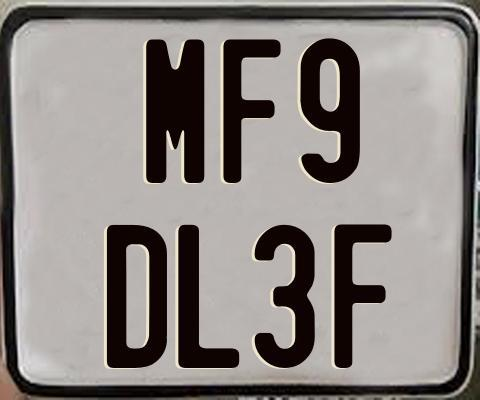3: (253, 225, 315, 374)
9: (297, 37, 358, 188)
D: (105, 223, 167, 367)
F: (221, 39, 284, 189), (332, 222, 393, 372)
L: (176, 223, 241, 371)
M: (143, 38, 203, 187)
